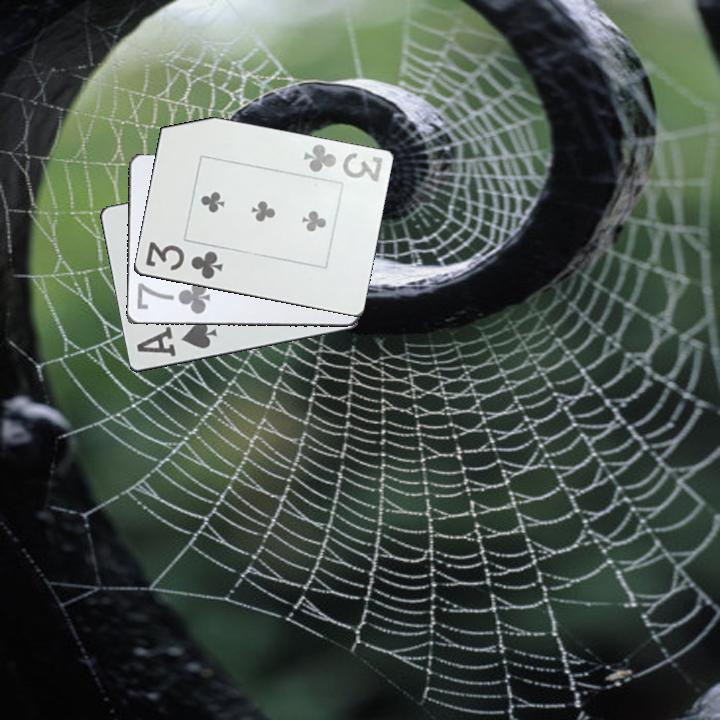3c: (142, 238, 226, 283), (300, 141, 385, 185)
7c: (133, 281, 212, 317)
As: (133, 318, 221, 360)
